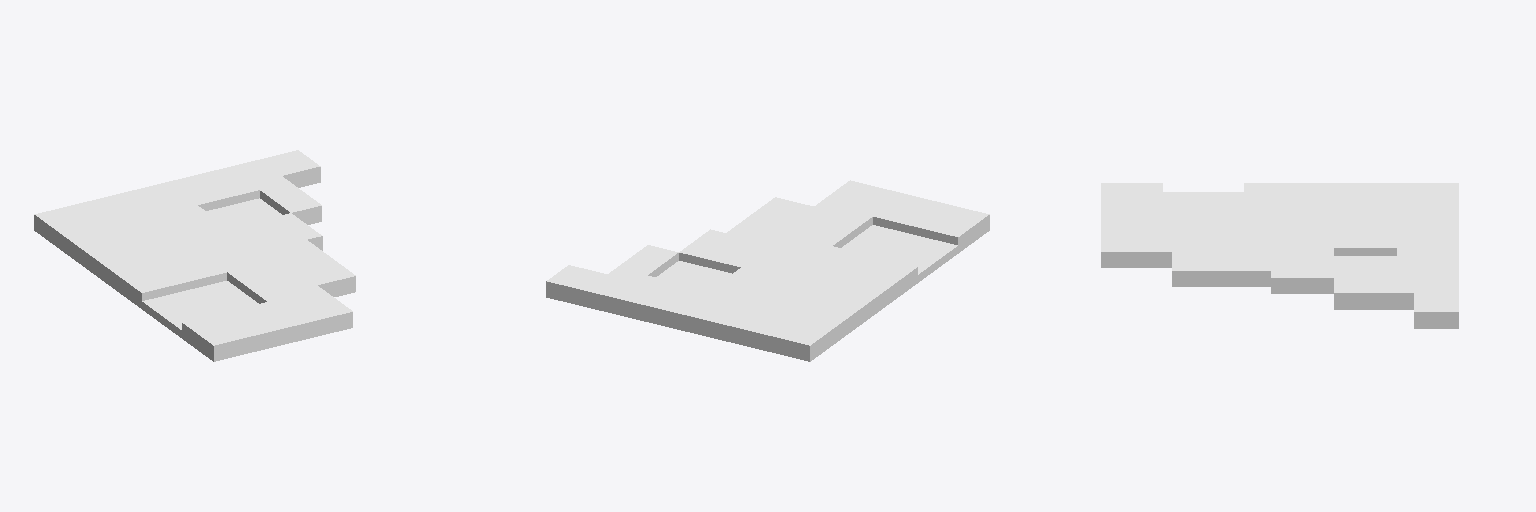
Rendered from floor_Panel_V1.obj.
3 views of the same model, side by side, from view 1: azimuth 30°, elevation 25°; view 2: azimuth 150°, elevation 25°; view 3: azimuth 270°, elevation 25° (orthographic).
Parts seen in each view (by area): view 1: floor_Panel_V1; view 2: floor_Panel_V1; view 3: floor_Panel_V1.
Boxes of the visible parts, <box> form: floor_Panel_V1: <box>34,150,355,361</box>; floor_Panel_V1: <box>546,180,989,361</box>; floor_Panel_V1: <box>1101,183,1458,328</box>.
Size of the model in its own units: 34 by 2 by 40.